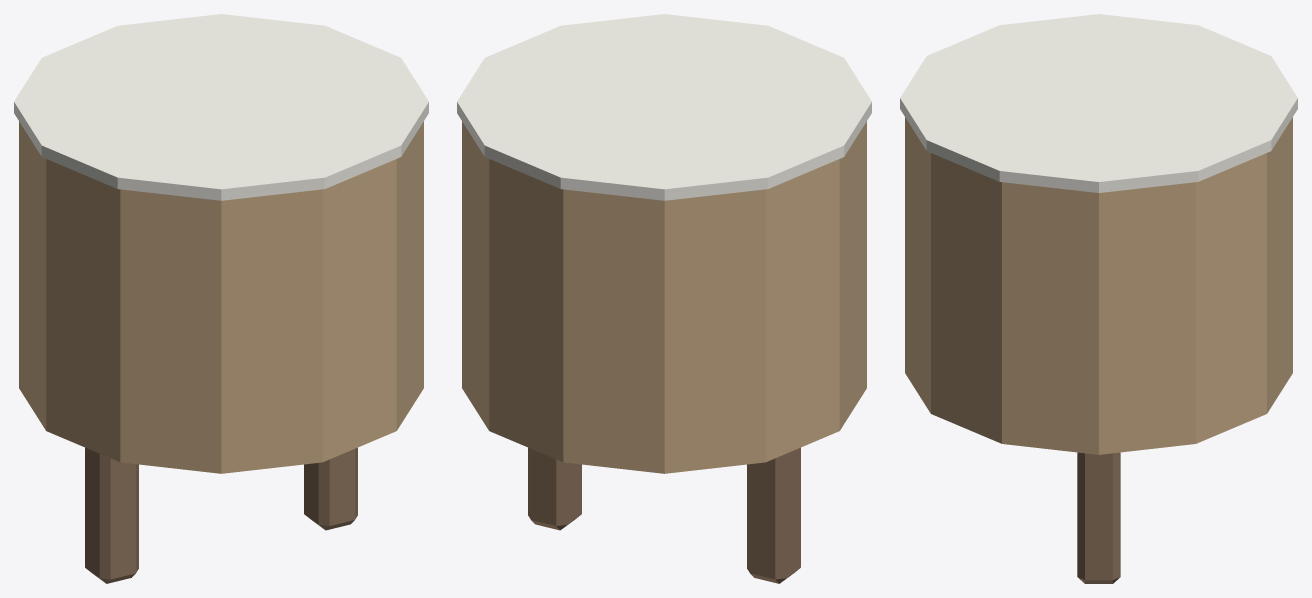
File: feudal-japan-castle-town-taiko-drum-9bc374c1__26492.glb
3 renders of one model, left to right at view 1: azimuth 30°, elevation 25°; view 2: azimuth 150°, elevation 25°; view 3: azimuth 270°, elevation 25°, orthographic. The views are drawn at different scales.
Visible parts, largest first — view 1: taiko-drum; view 2: taiko-drum; view 3: taiko-drum.
Part boxes in pixels (<box>): taiko-drum: <box>14,14,428,583</box>; taiko-drum: <box>457,14,871,583</box>; taiko-drum: <box>900,14,1297,583</box>.
Size of the model in its own units: 0.82 by 0.975 by 0.82.
